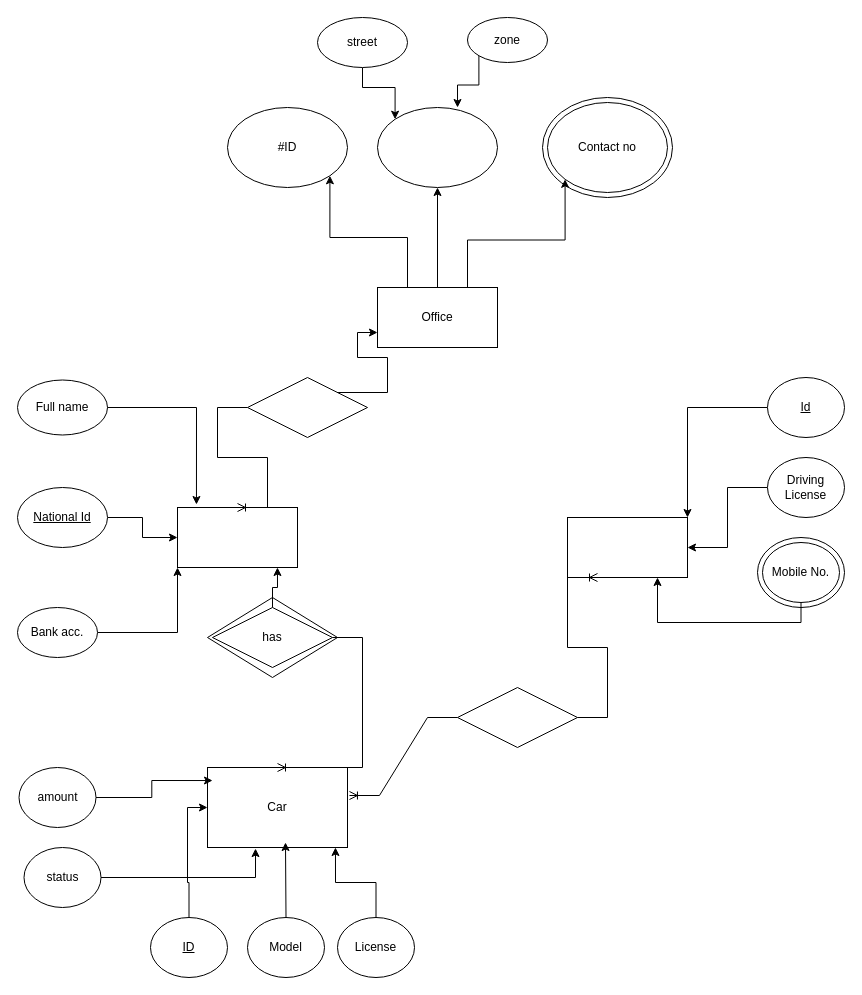
Some shapes in this 862 by 995 pixel diagram are drawn without their labels. The shapes that lost their labels are listed below. From the top down, each one's box as (x1, y1, x2, y2) in pixels, then its label:
(376, 106, 498, 188): Address
(246, 376, 368, 438): apply
(176, 506, 298, 568): Owner
(566, 516, 688, 578): Tennant
(456, 686, 578, 748): rent
